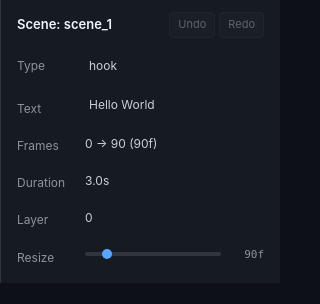
Test case: Inspector › enters edit mode on type click
The width and height of the screenshot is (320, 304).
Click the text "hook".
click(103, 65)  # box [89,58,117,73]
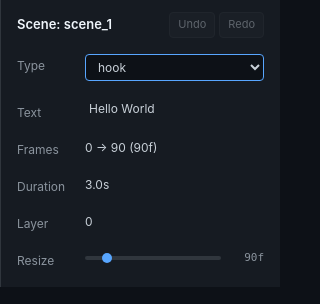
Expected: the dropdown is shown, [85,54,264,81]
